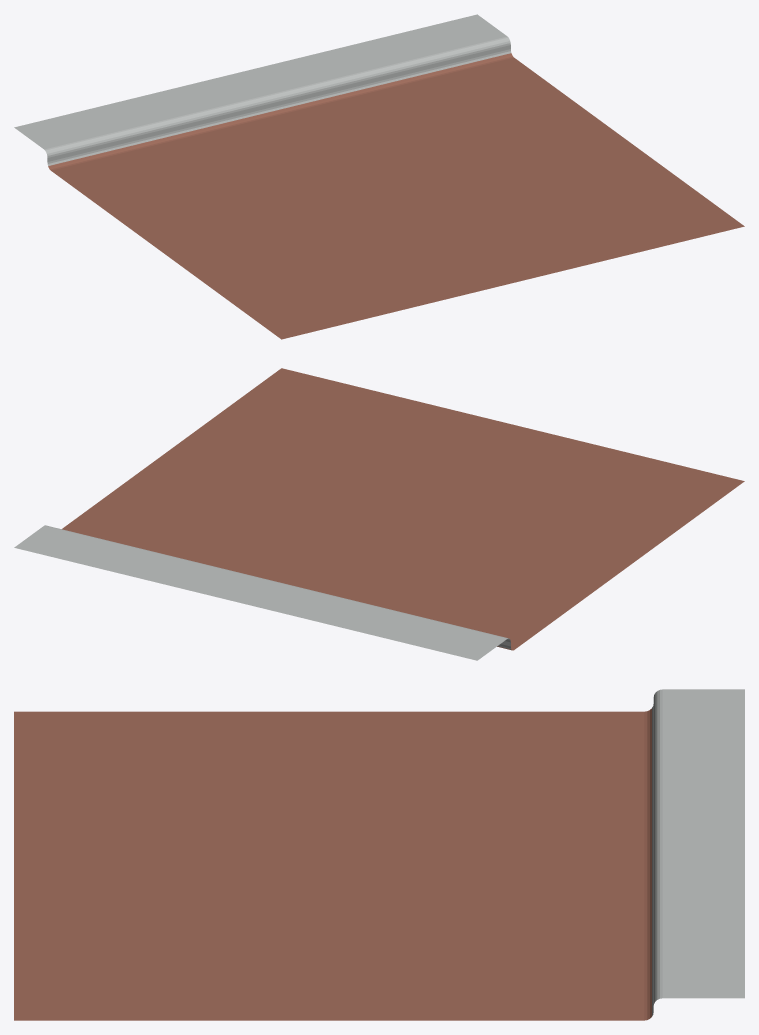
Rendered from Free_Road.fbx.
3 views of the same model, one above another, from view 1: azimuth 30°, elevation 25°; view 2: azimuth 150°, elevation 25°; view 3: azimuth 270°, elevation 25° (orthographic). The views are drawn at different scales.
Visible parts, largest first — view 1: Plan.006; view 2: Plan.006; view 3: Plan.006.
Part boxes in pixels (x1,y1,x2,y2): Plan.006: (14,14,744,339); Plan.006: (14,368,744,660); Plan.006: (14,689,744,1020).
Bounding box in the file's own units: 800 × 26.78 × 800.
